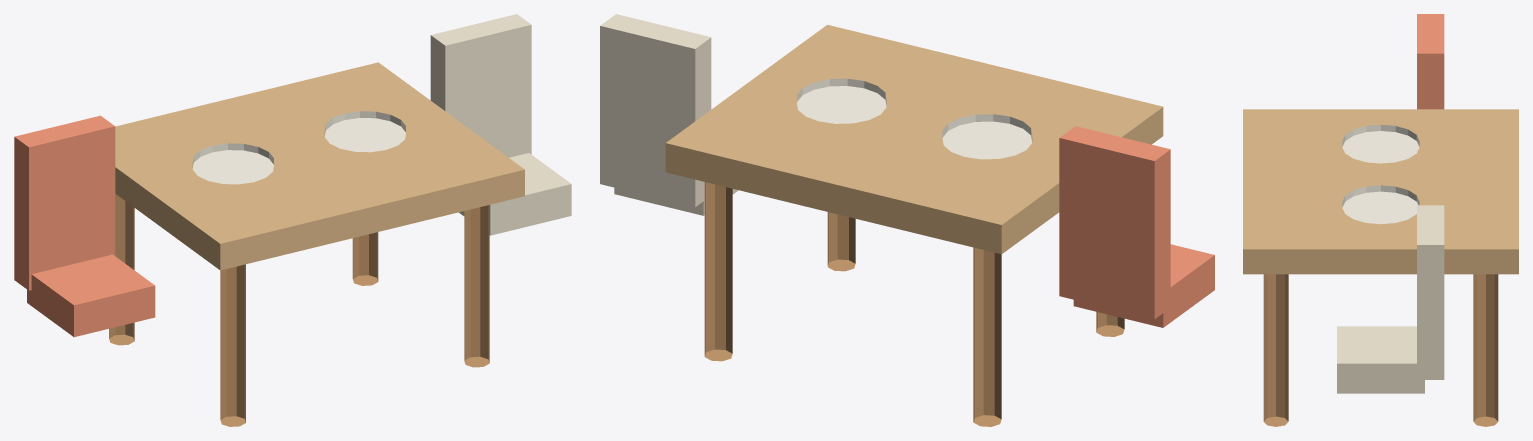
Rendered from dining_square.glb.
3 renders of one model, left to right at view 1: azimuth 30°, elevation 25°; view 2: azimuth 150°, elevation 25°; view 3: azimuth 270°, elevation 25°, orthographic. The views are drawn at different scales.
Visible parts, largest first — view 1: dining_square; view 2: dining_square; view 3: dining_square.
Boxes of the visible parts, x1,y1,x2,y2 form: dining_square: (14, 14, 571, 426); dining_square: (600, 14, 1214, 426); dining_square: (1243, 14, 1518, 426).
Bounding box in the file's own units: 1.98 × 0.945 × 1.
